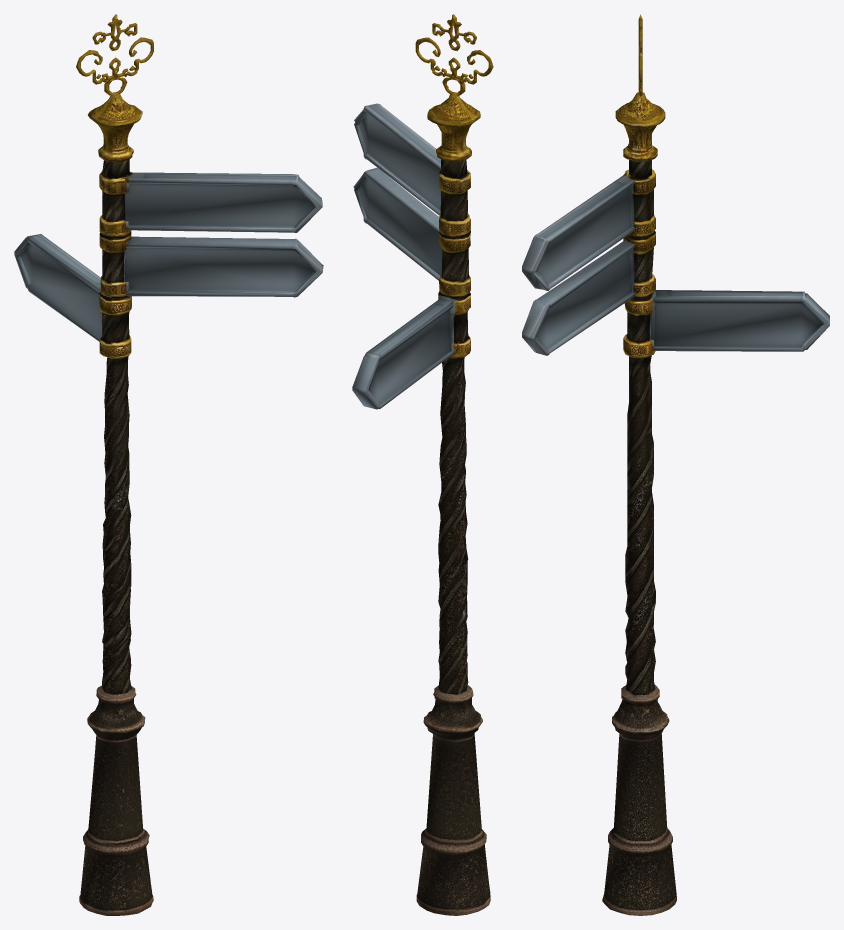
File: tripo_convert_3fb59724-accc-4752-861c-437215ab14d1.fbx
3 views of the same model, side by side, from view 1: azimuth 30°, elevation 25°; view 2: azimuth 150°, elevation 25°; view 3: azimuth 270°, elevation 25° (orthographic).
Visible parts, largest first — view 1: tripo_node_3fb59724; view 2: tripo_node_3fb59724; view 3: tripo_node_3fb59724.
Part boxes in pixels (bbox=[...]): tripo_node_3fb59724: bbox=[14, 14, 323, 915]; tripo_node_3fb59724: bbox=[352, 14, 493, 915]; tripo_node_3fb59724: bbox=[522, 14, 829, 915].
Bounding box in the file's own units: 0.2285 × 0.998 × 0.3145.
Materials: 1 (1 with a texture image).
